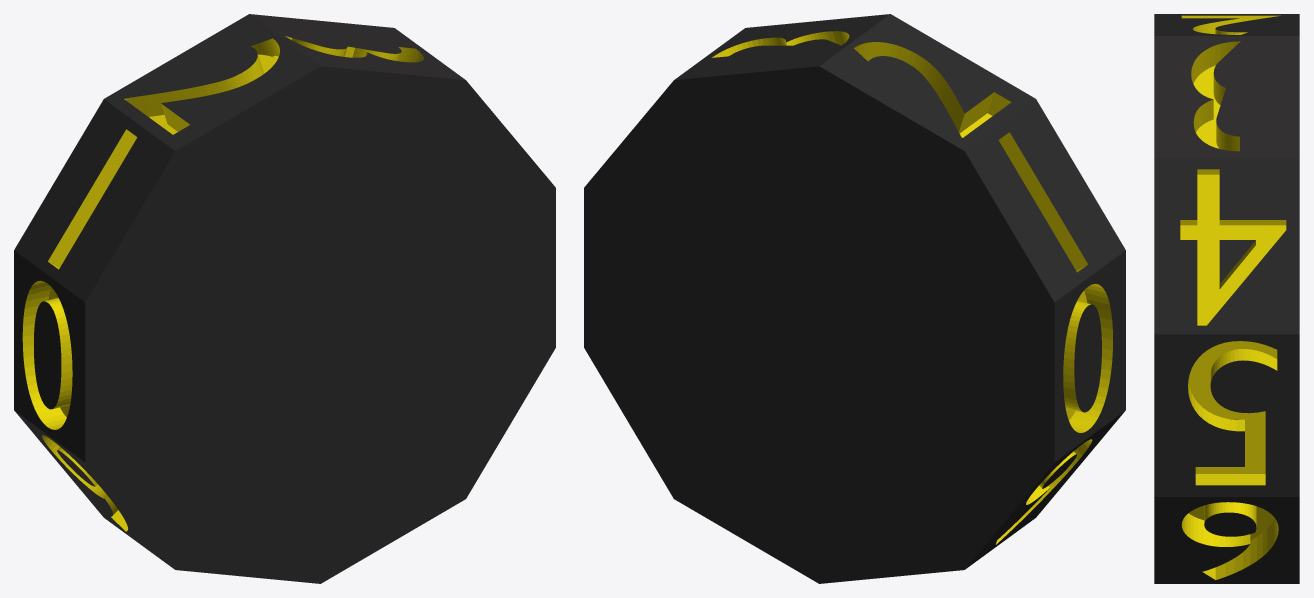
The model's file is Lock.fbx.
3 renders of one model, left to right at view 1: azimuth 30°, elevation 25°; view 2: azimuth 150°, elevation 25°; view 3: azimuth 270°, elevation 25°, orthographic.
Visible parts, largest first — view 1: Cylinder; view 2: Cylinder; view 3: Cylinder.
Boxes of the visible parts, box(x1,y1,x2,y2) form: Cylinder: box(14, 14, 555, 583); Cylinder: box(584, 14, 1125, 583); Cylinder: box(1154, 14, 1299, 583).
Bounding box in the file's own units: 190 × 200 × 50.
